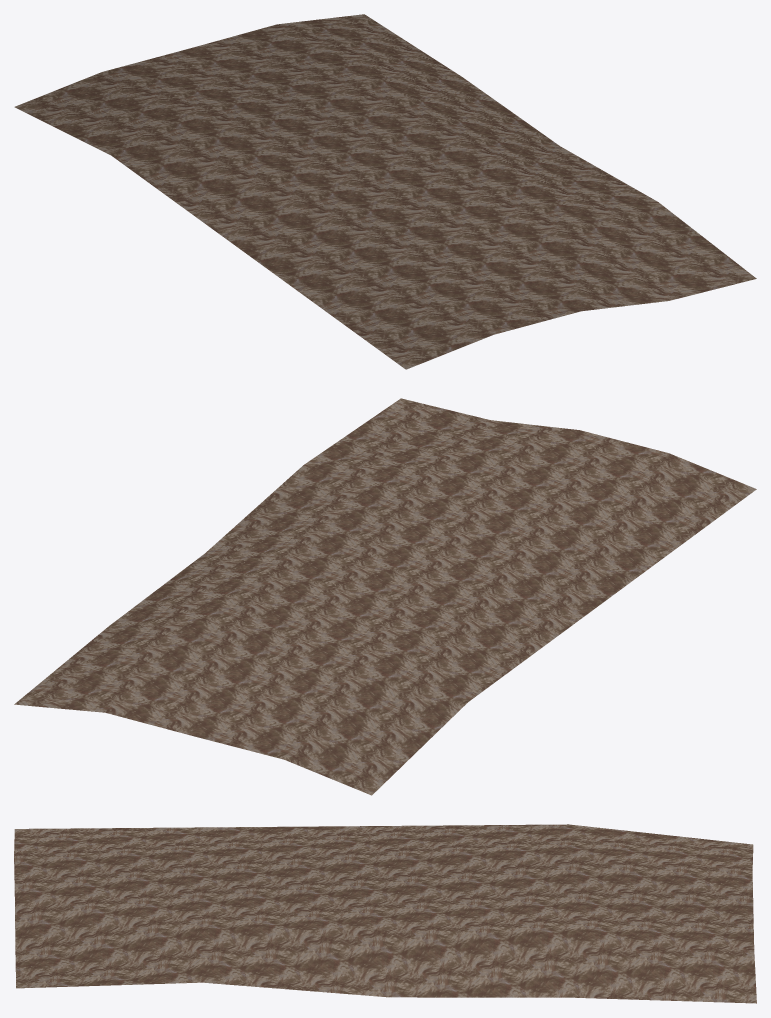
File: Mud.FBX
3 renders of one model, top to bottom at view 1: azimuth 30°, elevation 25°; view 2: azimuth 150°, elevation 25°; view 3: azimuth 270°, elevation 25°, orthographic. The views are drawn at different scales.
Parts seen in each view (by area): view 1: Mud; view 2: Mud; view 3: Mud.
Part boxes in pixels (bbox=[...]): Mud: bbox=[14, 14, 756, 369]; Mud: bbox=[14, 398, 756, 795]; Mud: bbox=[14, 824, 756, 1003].
Size of the model in its own units: 7.8 by 0.8666 by 14.72.
Materials: 1 (1 with a texture image).
